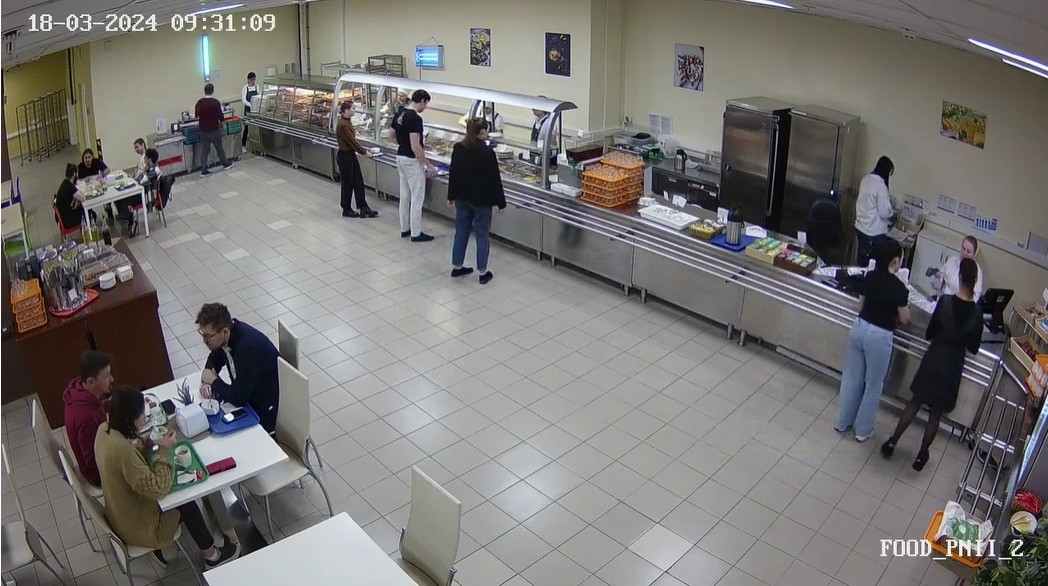Na_Kasse: (906, 259, 990, 482), (831, 228, 912, 448)
Personal: (844, 131, 898, 259), (934, 215, 989, 307), (528, 90, 563, 157), (465, 86, 508, 125), (236, 60, 266, 113)
Vybiraet: (447, 99, 506, 287), (390, 82, 439, 250), (328, 87, 382, 232), (179, 79, 229, 171)
Za_Stolom: (183, 280, 297, 428), (94, 380, 178, 555), (54, 346, 123, 490), (53, 152, 91, 242), (134, 145, 171, 210), (71, 136, 110, 185), (126, 134, 152, 180)
